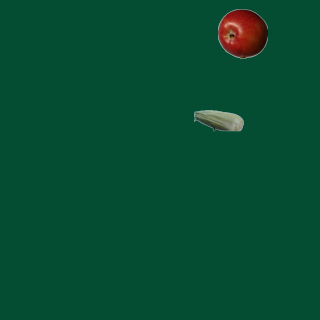Apple Braeburn: (217, 8, 267, 58)
Corn Husk: (193, 95, 243, 145)
